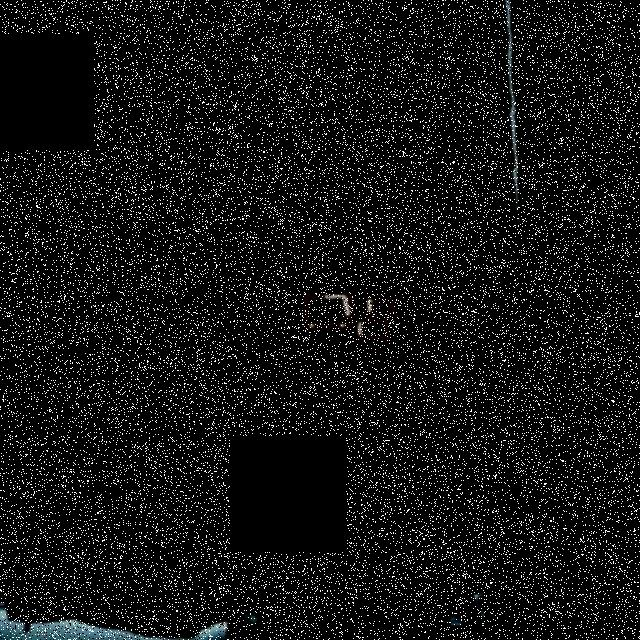QR_CODE: (302, 295, 348, 329), (360, 320, 392, 339), (369, 296, 395, 316)
